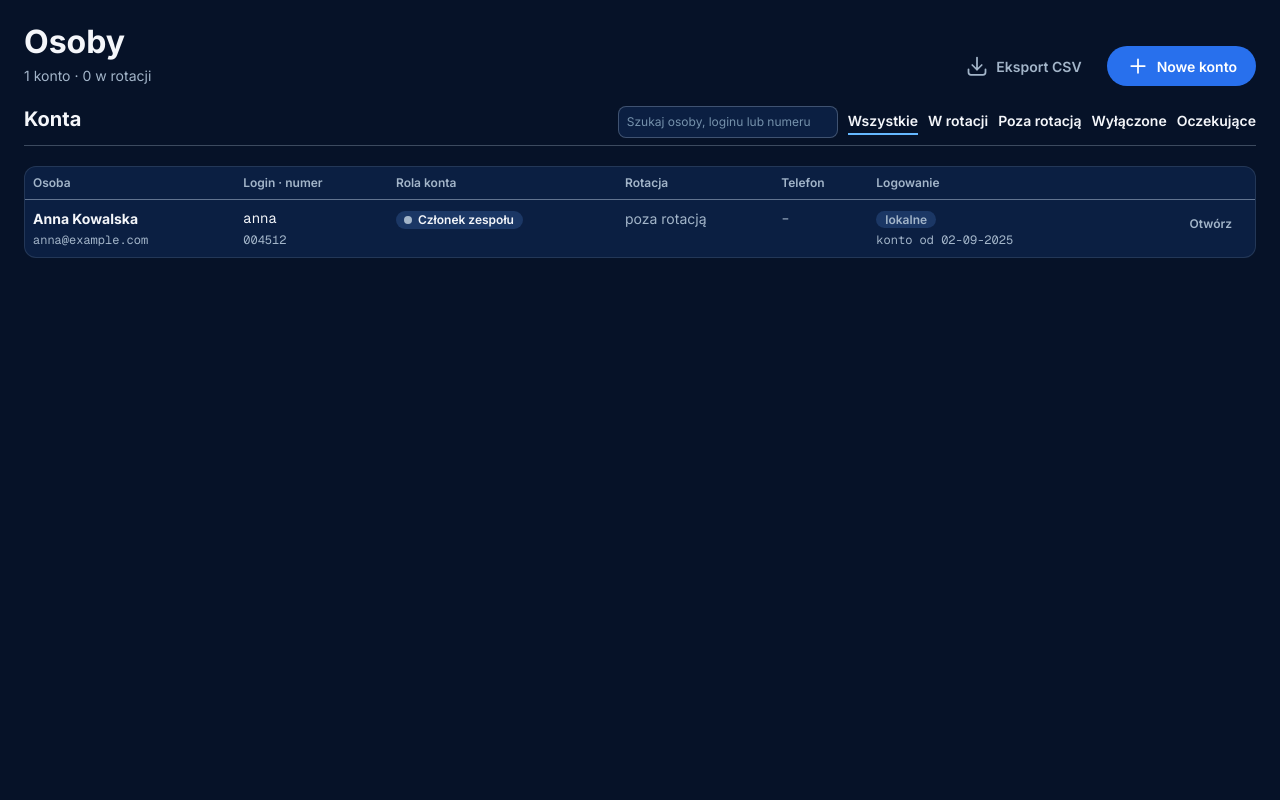
PeoplePanel person panel › shows the number as the server stored it, so a saved panel is not left unsaved
This screenshot has width=1280, height=800.
Click the button "Otwórz". click: (1211, 224)
box: [1175,208,1247,240]
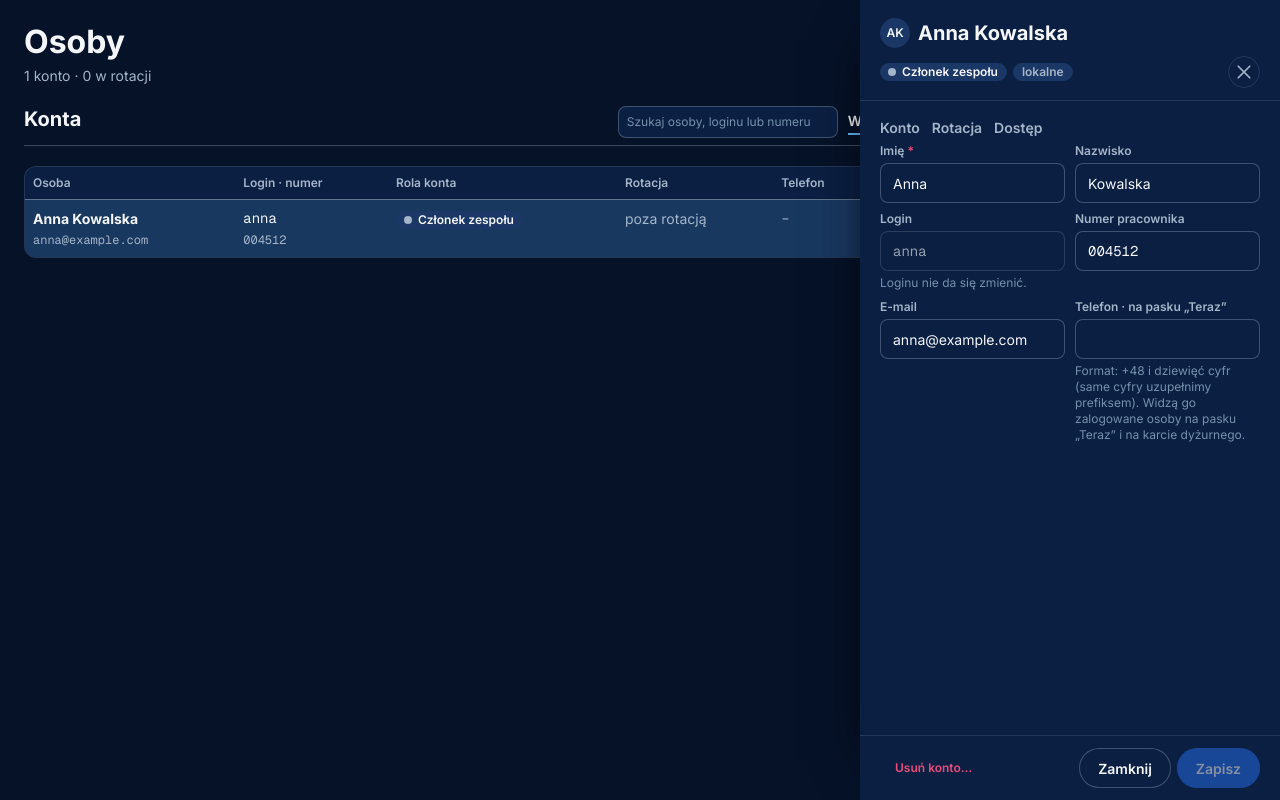
Type "600100200" into the field labelled "Telefon · na pasku „Teraz”". click: (1168, 339)
box: [1075,319,1260,359]
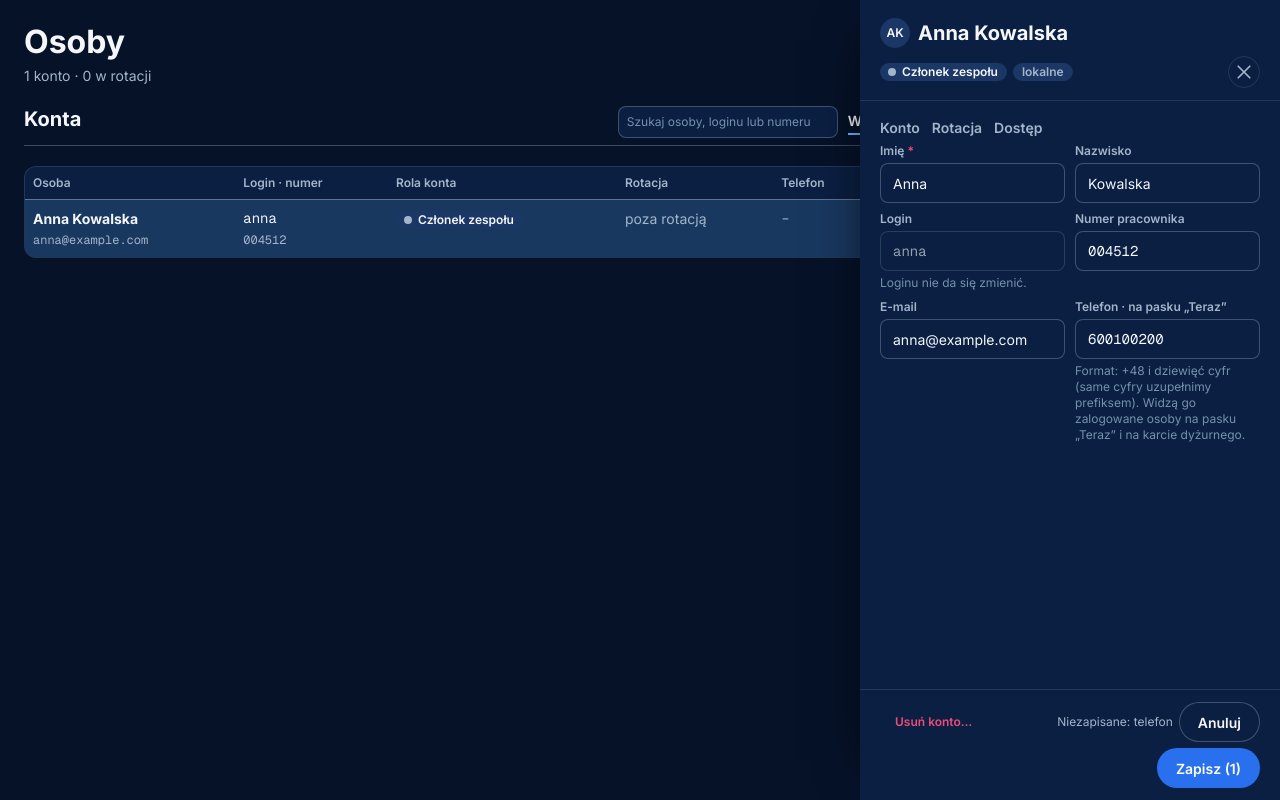
Click the button "Zapisz (1)". click: (1208, 768)
box: [1157,748,1260,788]
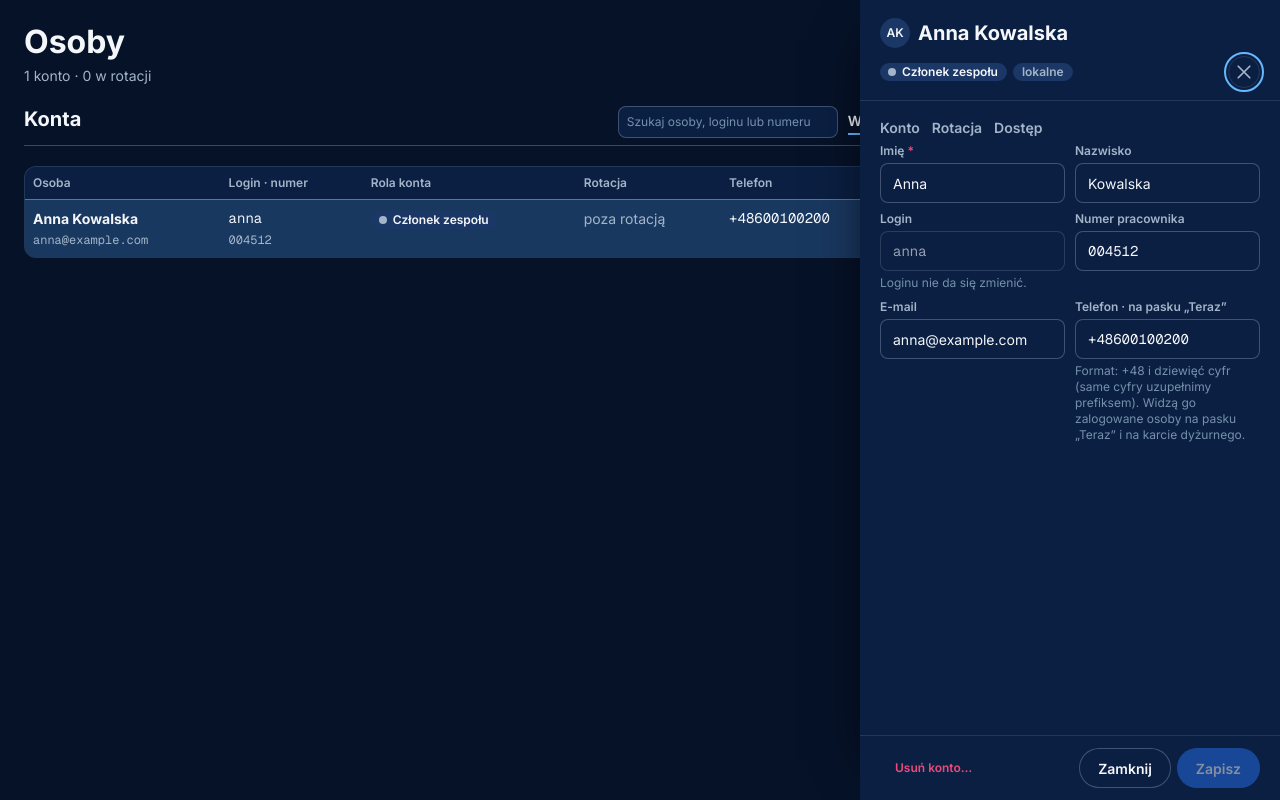
Expected: the field labelled "Telefon · na pasku „Teraz”" holds "+48600100200", [1075,319,1260,359]
Expected: the text "Niezapisane" is gone
